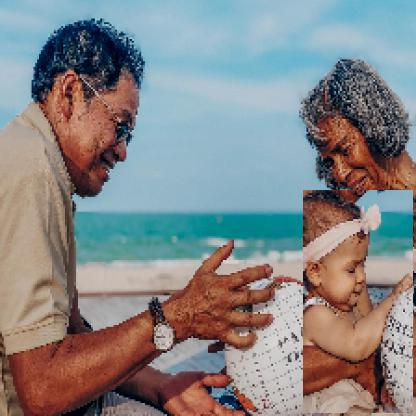child: (304, 191, 415, 415)
